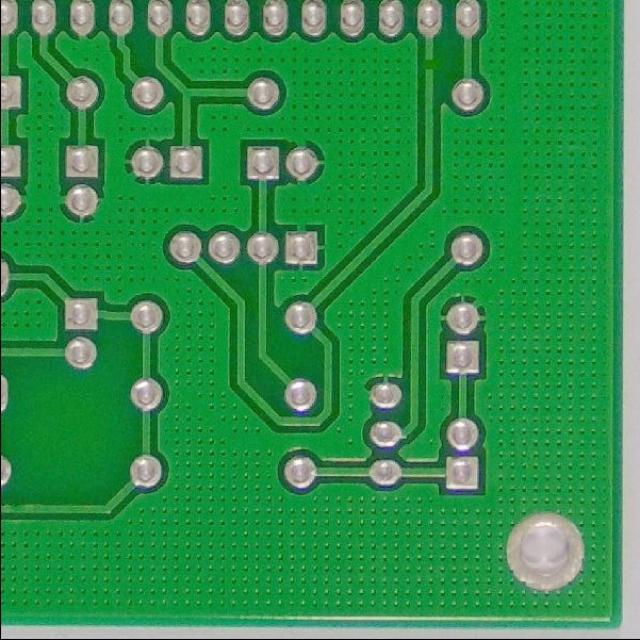Open_Circuit: (416, 51, 441, 79)
